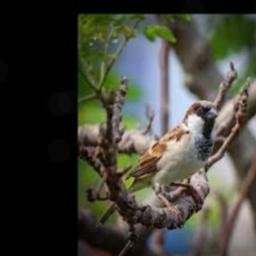Sparrow: (125, 99, 218, 217)
